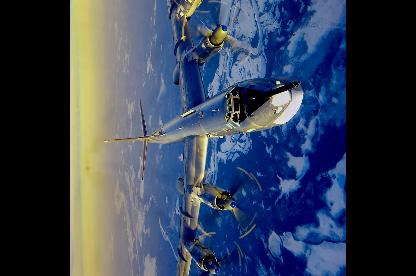Su57: (102, 0, 305, 273)
